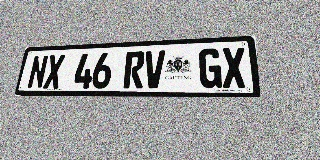4: (73, 53, 95, 89)
6: (91, 52, 113, 89)
G: (199, 48, 222, 88)
N: (27, 55, 49, 89)
R: (123, 51, 145, 88)
V: (143, 50, 165, 88)
X: (222, 47, 247, 88), (43, 54, 65, 89)
